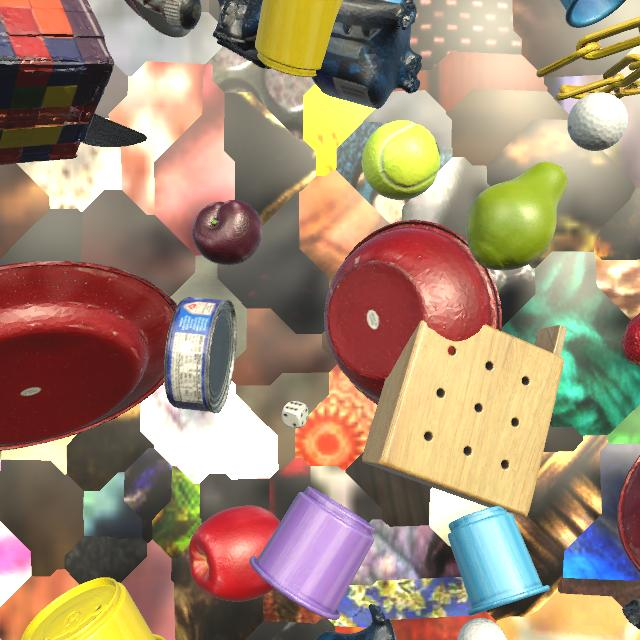ycb_007_tuna_fish_can: (164, 297, 237, 414)
ycb_012_strawberry: (622, 313, 640, 367)
ycb_013_apple: (189, 505, 280, 602)
ycb_016_pear: (466, 162, 568, 270)
ycb_018_plum: (192, 200, 262, 265)
